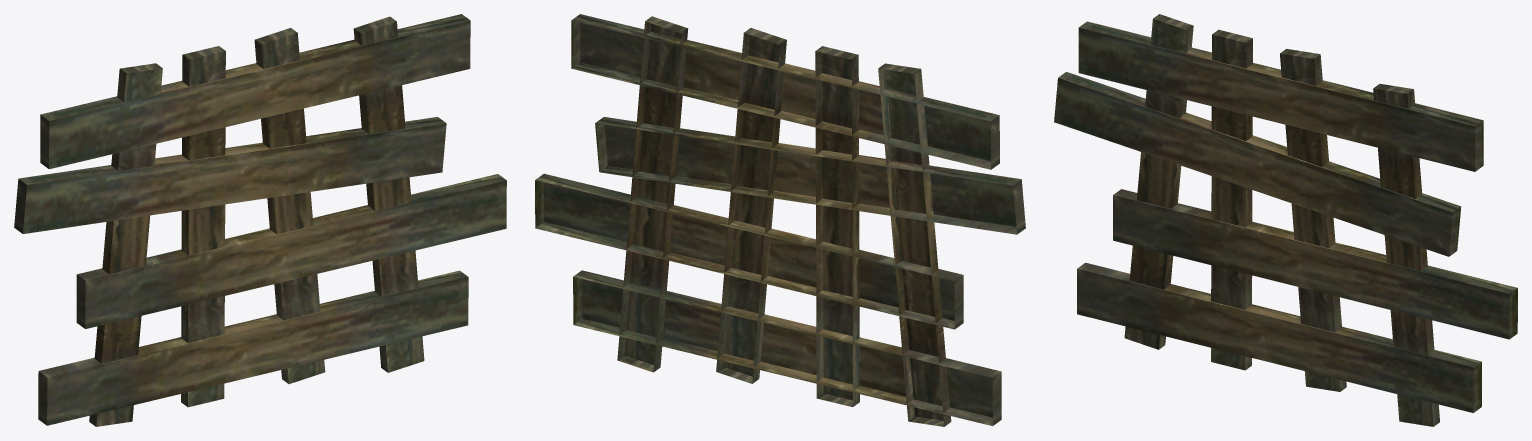
File: juqing_fuben_395_zawu01.obj
The picture shows the model from 3 angles, left to right: view 1: azimuth 30°, elevation 25°; view 2: azimuth 150°, elevation 25°; view 3: azimuth 330°, elevation 25°; orthographic projection. The views are drawn at different scales.
Visible parts, largest first — view 1: juqing_fuben_395_zawu01; view 2: juqing_fuben_395_zawu01; view 3: juqing_fuben_395_zawu01.
Boxes of the visible parts, <box> form: juqing_fuben_395_zawu01: <box>14,14,506,426</box>; juqing_fuben_395_zawu01: <box>535,14,1025,426</box>; juqing_fuben_395_zawu01: <box>1054,14,1517,426</box>.
Bounding box in the file's own units: 137 × 98.19 × 4.65.
1 material, 1 textured.
